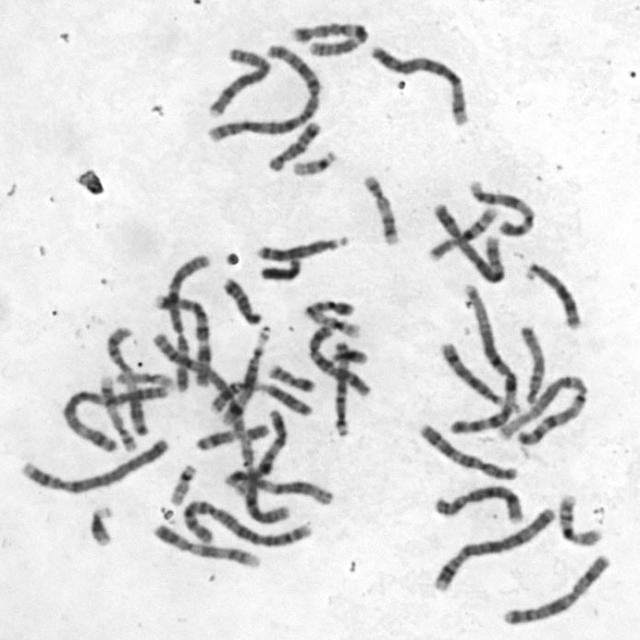A1: (449, 278, 522, 435), (496, 372, 590, 443)
A2: (202, 38, 324, 146), (178, 496, 314, 550)
A3: (153, 331, 247, 453), (58, 379, 170, 453)
B4: (438, 502, 558, 590), (21, 436, 173, 496)
B5: (376, 45, 467, 123), (435, 203, 504, 280)
C10: (422, 422, 519, 482), (304, 323, 374, 398)
C11: (106, 323, 154, 434), (211, 376, 314, 419)
C12: (233, 409, 290, 497), (222, 466, 333, 509)
C6: (168, 250, 211, 395), (239, 422, 293, 524)
C7: (155, 297, 219, 383), (287, 18, 370, 58)
C8: (206, 46, 275, 114), (432, 483, 524, 528)
C9: (150, 520, 262, 570), (469, 180, 545, 232)
D13: (520, 258, 582, 332), (253, 231, 349, 262)
D14: (216, 326, 276, 428), (440, 338, 516, 413)
D15: (516, 322, 548, 406), (329, 339, 355, 442)
E16: (431, 208, 500, 261), (555, 493, 603, 547)
E17: (98, 369, 139, 453), (360, 170, 400, 248)
E18: (264, 118, 322, 173), (220, 274, 264, 326)
F19: (309, 310, 361, 339), (112, 369, 176, 390)
F20: (264, 361, 316, 393), (304, 298, 357, 318)
G21: (85, 501, 114, 549), (329, 342, 369, 365)
G22: (290, 147, 338, 177), (168, 461, 195, 506)
X: (501, 554, 614, 628)
Y: (256, 255, 304, 282)
